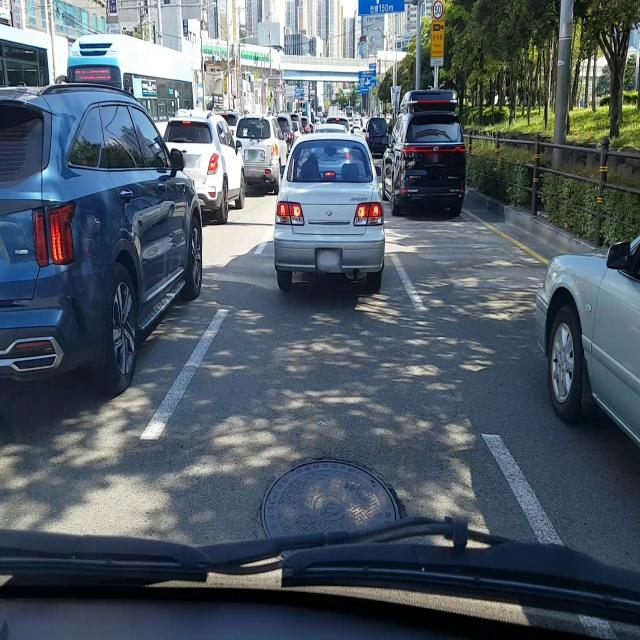Pothole: (258, 456, 409, 530)
